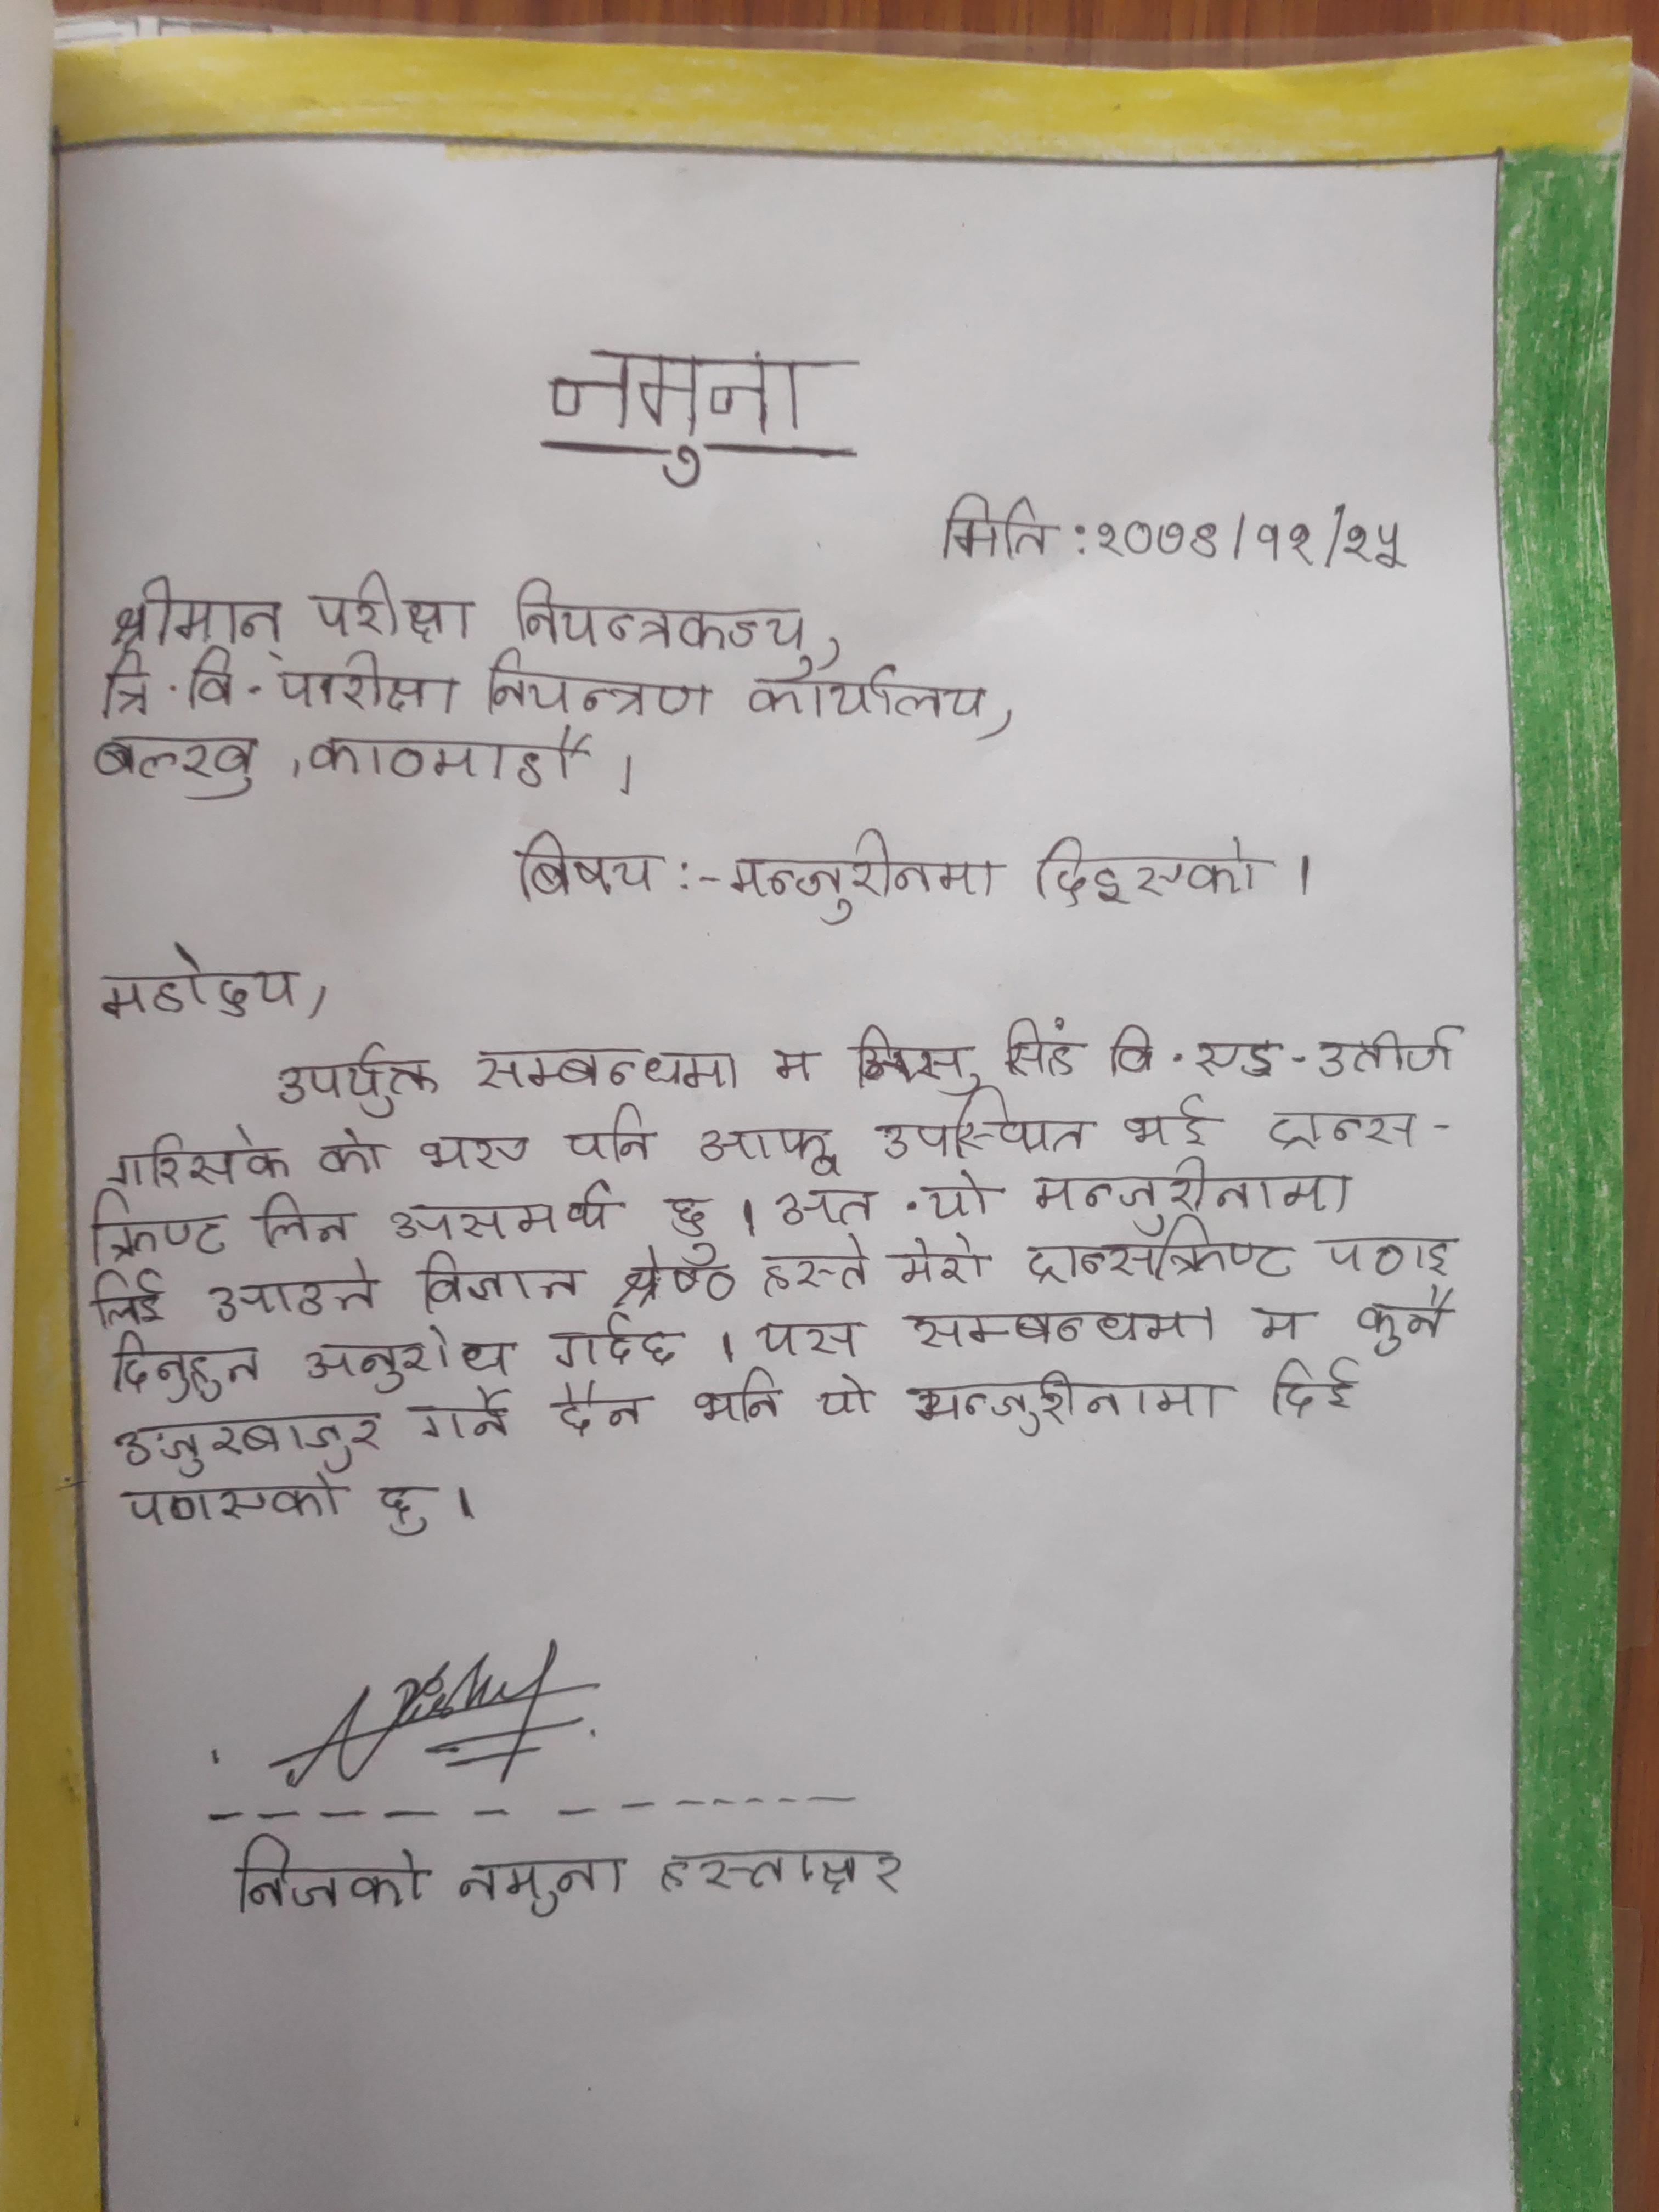text: (542, 348, 866, 493), (511, 575, 823, 676), (1025, 1148, 1351, 1235), (725, 824, 1002, 921), (305, 711, 598, 792), (903, 1367, 1227, 1439), (1016, 1214, 1300, 1291), (110, 1402, 396, 1475), (1091, 510, 1412, 575), (1030, 831, 1265, 909), (477, 653, 720, 726), (903, 1299, 1220, 1355), (87, 941, 301, 1021), (289, 1320, 530, 1392), (389, 1176, 620, 1247), (225, 1831, 422, 1914), (652, 1843, 913, 1902), (870, 1092, 1091, 1160), (105, 571, 291, 650), (469, 1049, 748, 1099), (87, 725, 261, 805), (737, 669, 992, 723), (274, 651, 462, 721), (312, 568, 477, 646), (272, 1043, 441, 1120), (448, 1850, 638, 1918), (112, 1116, 293, 1186), (207, 1252, 390, 1320), (96, 650, 258, 721), (113, 1477, 350, 1526), (110, 1331, 267, 1404), (416, 1247, 580, 1317), (82, 1188, 234, 1263), (504, 831, 662, 902), (847, 1021, 988, 1094), (1305, 1019, 1464, 1080), (936, 488, 1054, 568), (699, 1122, 856, 1177), (606, 1249, 746, 1310), (1309, 1230, 1464, 1282), (1351, 1282, 1457, 1357), (547, 1317, 687, 1371), (1258, 1108, 1424, 1151), (758, 1238, 875, 1298), (410, 1127, 537, 1181), (559, 1099, 662, 1165), (1117, 1090, 1225, 1153), (547, 1374, 647, 1442), (256, 1184, 357, 1251), (1000, 1010, 1087, 1085), (690, 1369, 791, 1433), (884, 1231, 992, 1287), (85, 1263, 174, 1327), (758, 1312, 870, 1362), (1187, 1024, 1284, 1082), (765, 1183, 880, 1231), (408, 1392, 518, 1442), (1272, 1355, 1354, 1421), (310, 1122, 390, 1176), (373, 1480, 441, 1538), (920, 1169, 992, 1223), (816, 1367, 885, 1421), (652, 1190, 723, 1238), (1246, 1292, 1312, 1345), (1105, 1024, 1164, 1078), (765, 1038, 821, 1090)
